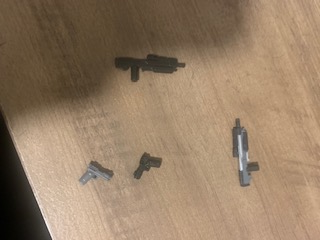pistol: (131, 149, 163, 181), (78, 162, 116, 188)
rifle: (229, 116, 262, 189), (111, 52, 187, 83)
